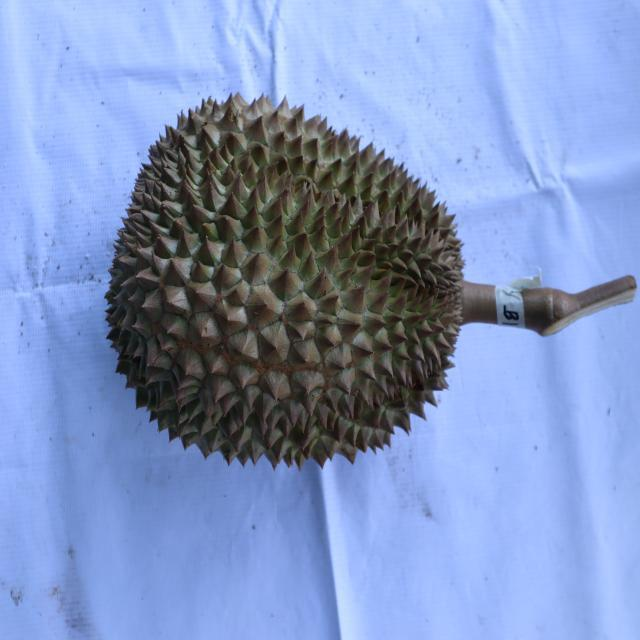mature: (103, 92, 469, 471)
